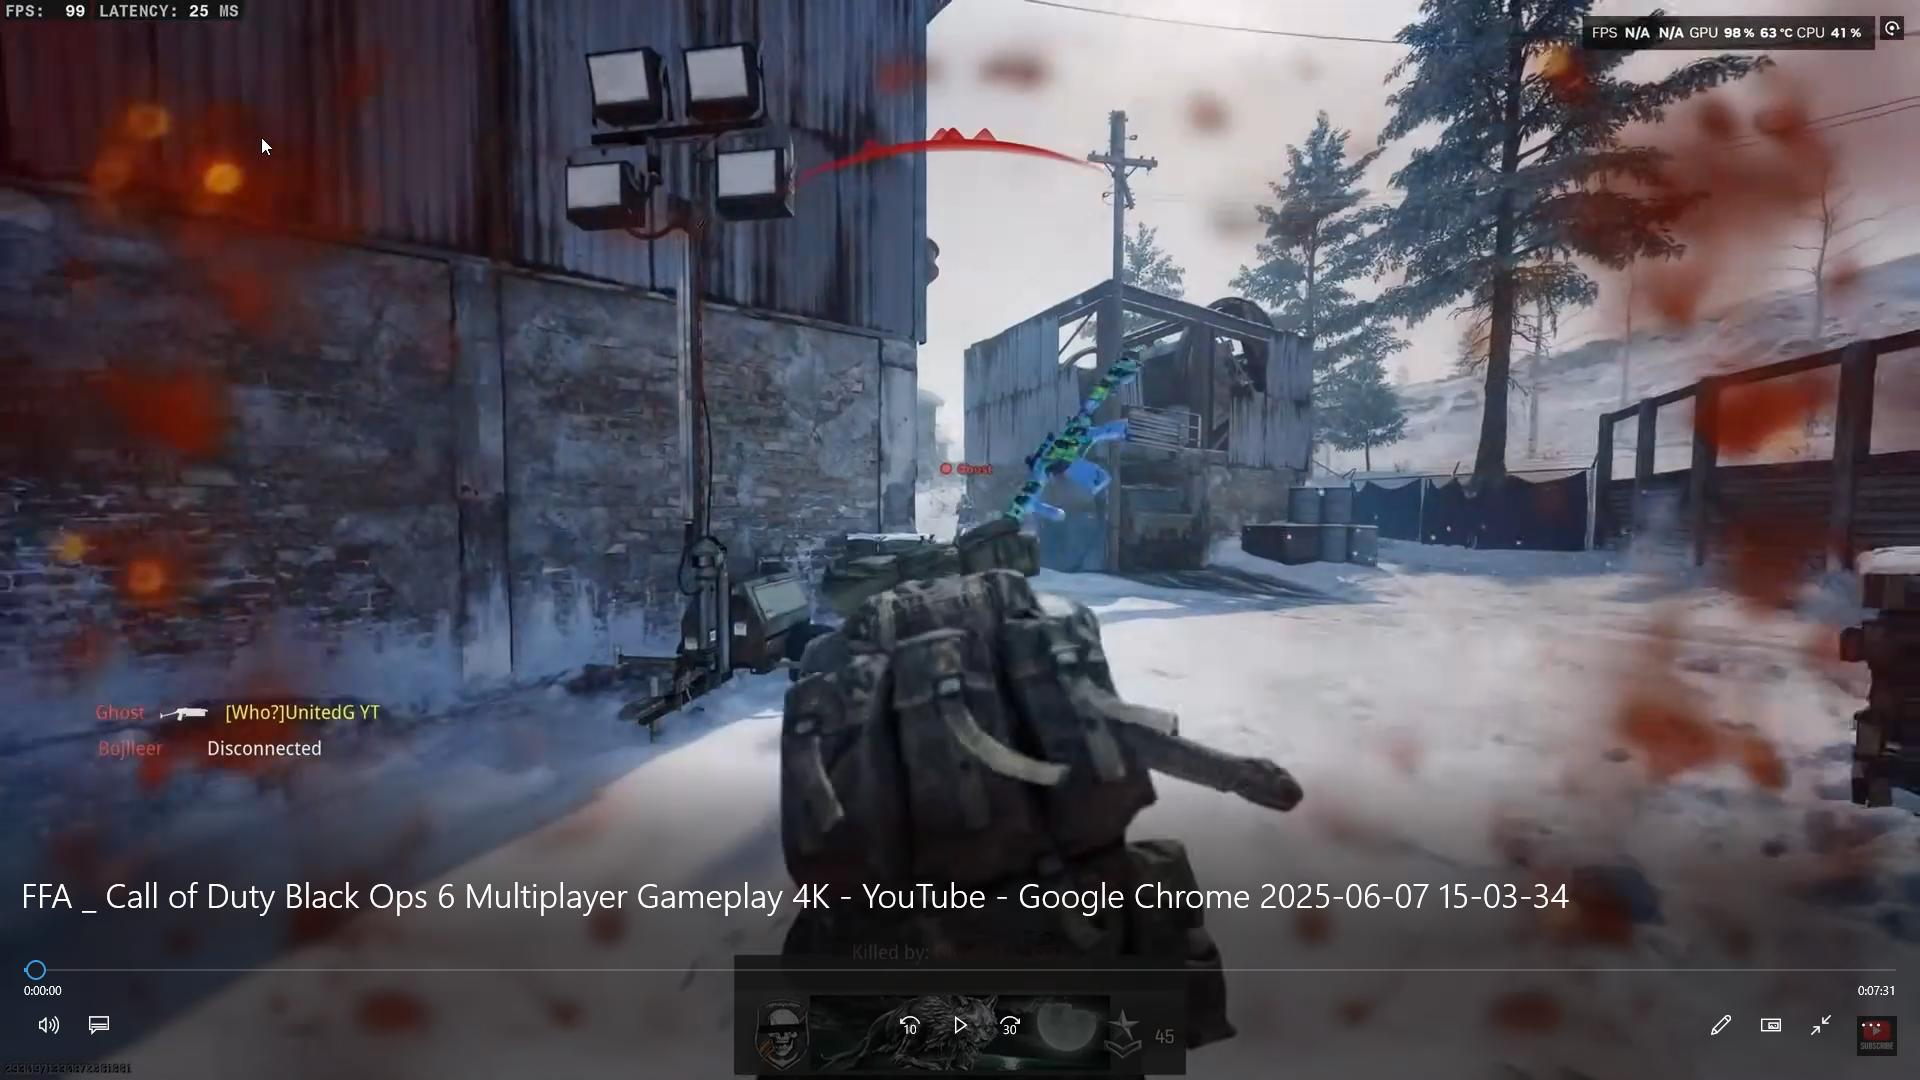Enemy: (953, 481, 977, 534)
